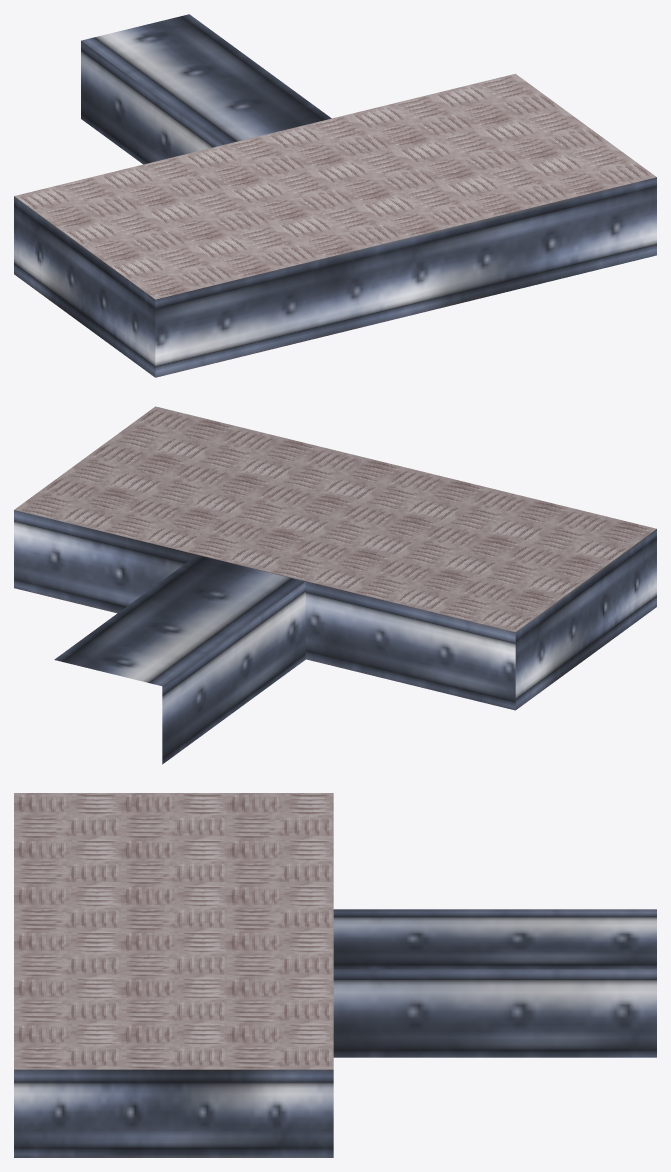
The picture shows the model from 3 angles, top to bottom: view 1: azimuth 30°, elevation 25°; view 2: azimuth 150°, elevation 25°; view 3: azimuth 270°, elevation 25°; orthographic projection. The views are drawn at different scales.
Parts seen in each view (by area): view 1: Object12; view 2: Object12; view 3: Object12.
Part boxes in pixels (box(x1,y1,x2,y2)): Object12: box(14, 14, 656, 377); Object12: box(14, 406, 656, 764); Object12: box(14, 793, 656, 1157).
Bounding box in the file's own units: 476 × 71.41 × 468.
Materials: 2 (2 with a texture image).
